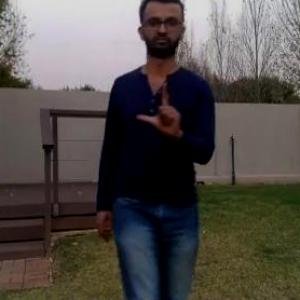land_hand: (134, 79, 187, 140)
